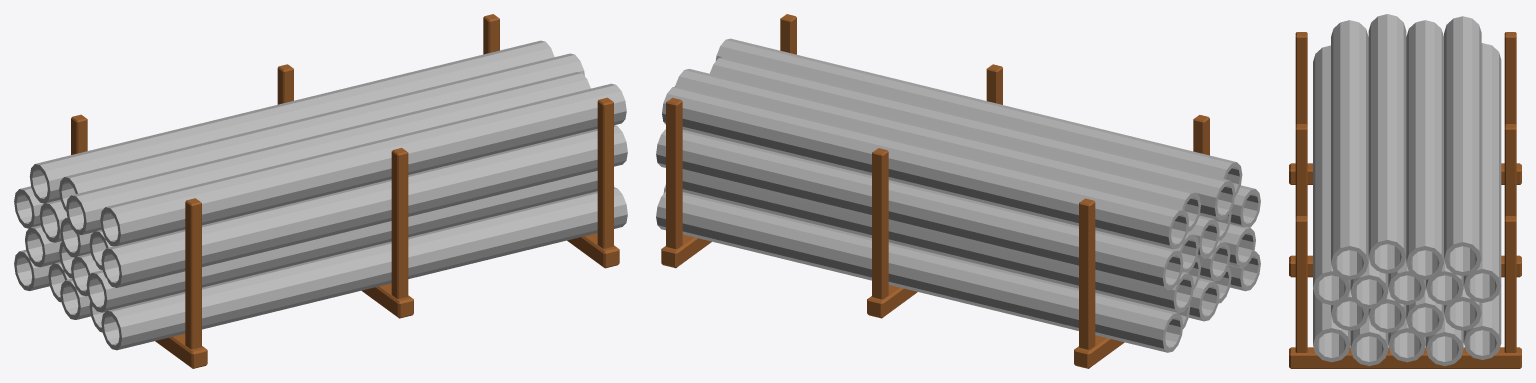
File: Pipe Holder A.fbx
3 views of the same model, side by side, from view 1: azimuth 30°, elevation 25°; view 2: azimuth 150°, elevation 25°; view 3: azimuth 270°, elevation 25° (orthographic). The views are drawn at different scales.
Parts seen in each view (by area): view 1: Pipe Holder A; view 2: Pipe Holder A; view 3: Pipe Holder A.
Part boxes in pixels (<box>): Pipe Holder A: <box>14,14,627,368</box>; Pipe Holder A: <box>656,14,1260,368</box>; Pipe Holder A: <box>1289,14,1521,368</box>.
Bounding box in the file's own units: 454 × 135 × 193.
